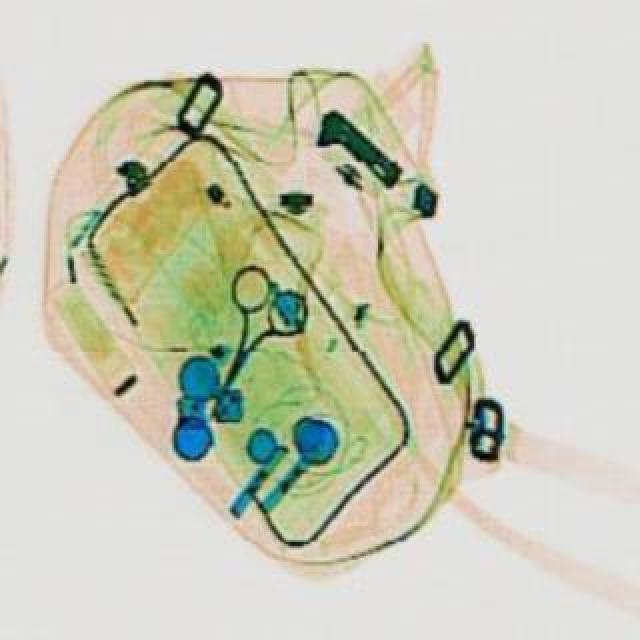pliers: (180, 256, 328, 420)
